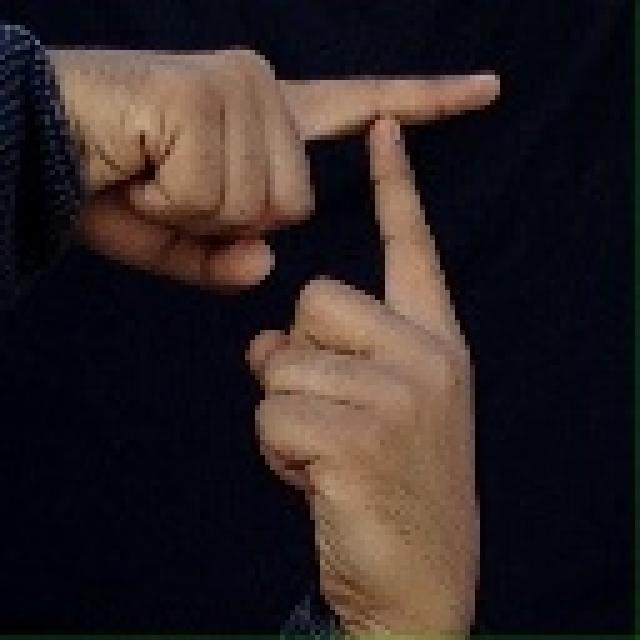T: (56, 51, 501, 616)
